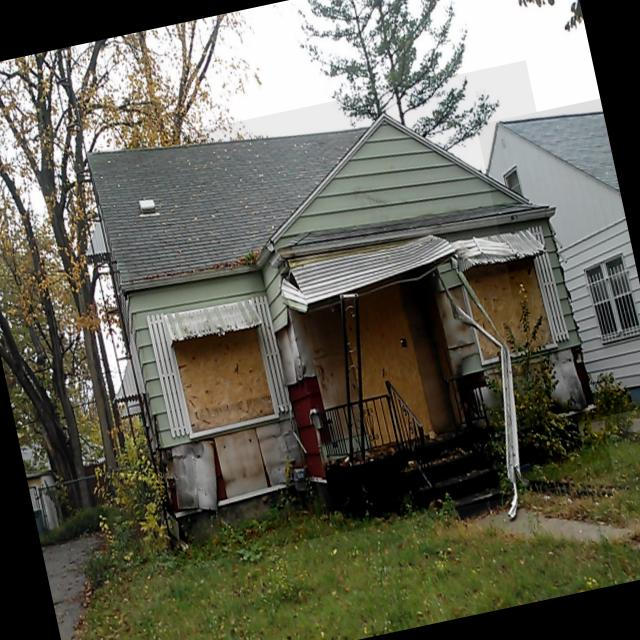House: (87, 60, 614, 567), (476, 97, 640, 429)
